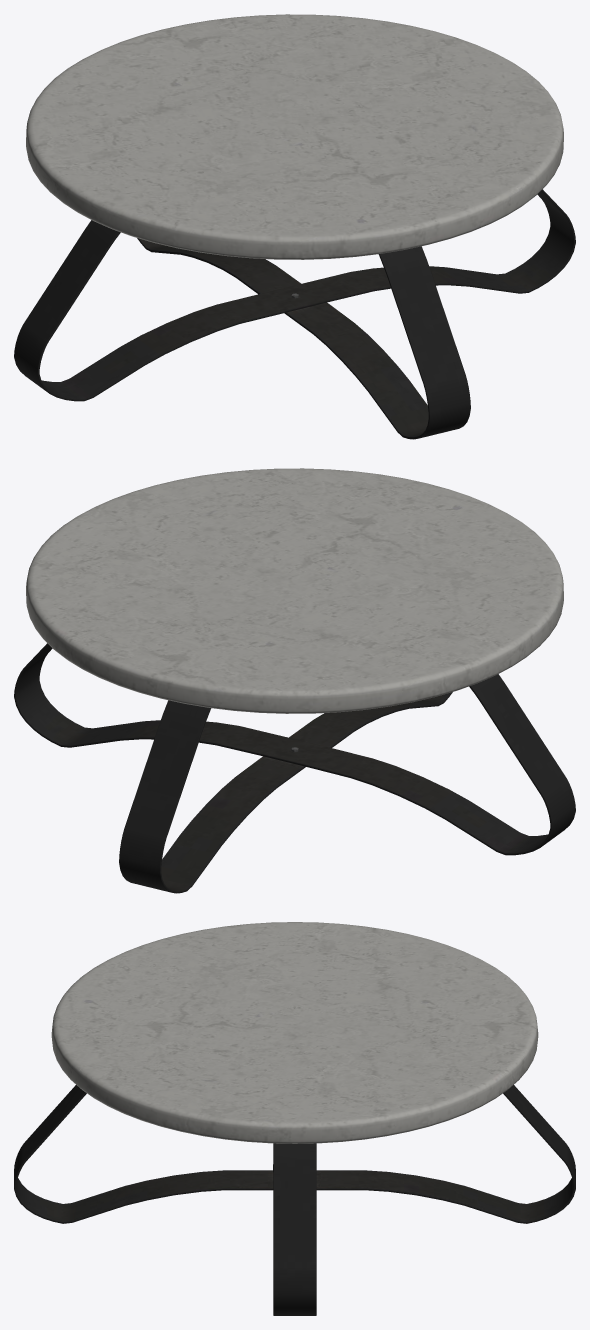
File: grey-stone.glb
The picture shows the model from 3 angles, top to bottom: view 1: azimuth 30°, elevation 25°; view 2: azimuth 150°, elevation 25°; view 3: azimuth 270°, elevation 25°; orthographic projection. The views are drawn at different scales.
Parts seen in each view (by area): view 1: coffee_table_round_01; view 2: coffee_table_round_01; view 3: coffee_table_round_01.
Part boxes in pixels (x1,y1,x2,y2): coffee_table_round_01: (14,14,575,439); coffee_table_round_01: (14,468,575,893); coffee_table_round_01: (14,922,575,1315).
Size of the model in its own units: 1.3 by 0.491 by 1.3.
Materials: 1 (1 with a texture image).
